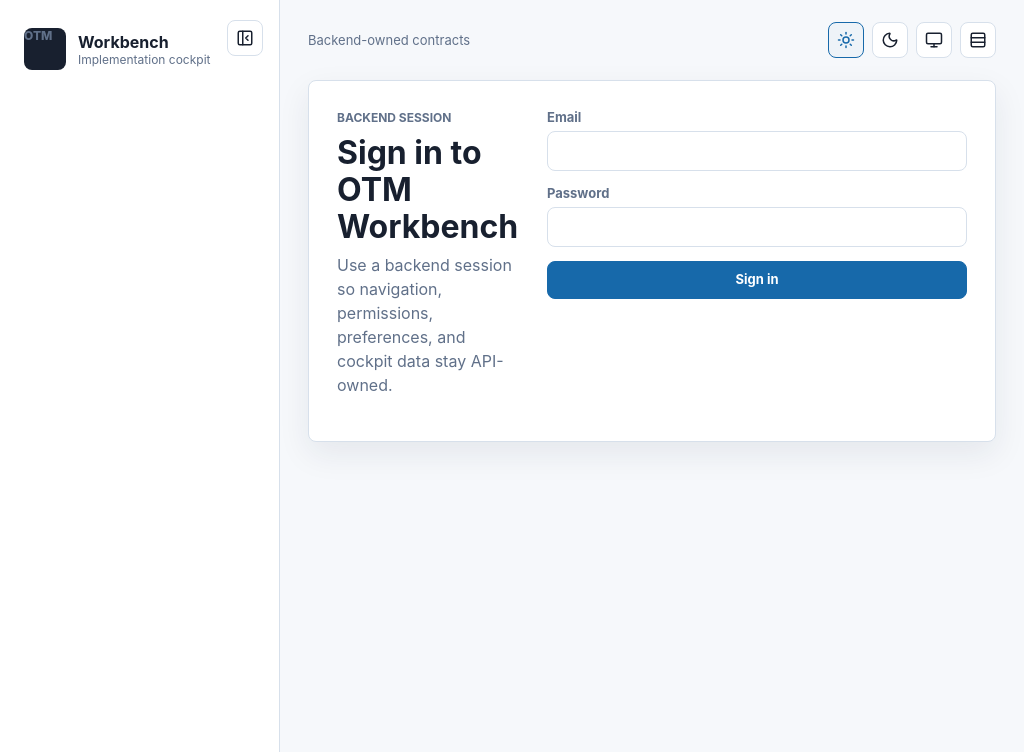
Test: Functional Assets Library journey › edits an asset classification on a dedicated route
Type "admin@example.test" into the field labelled "Email" at (757, 151), box top-left (547, 131), bottom-right (967, 171)
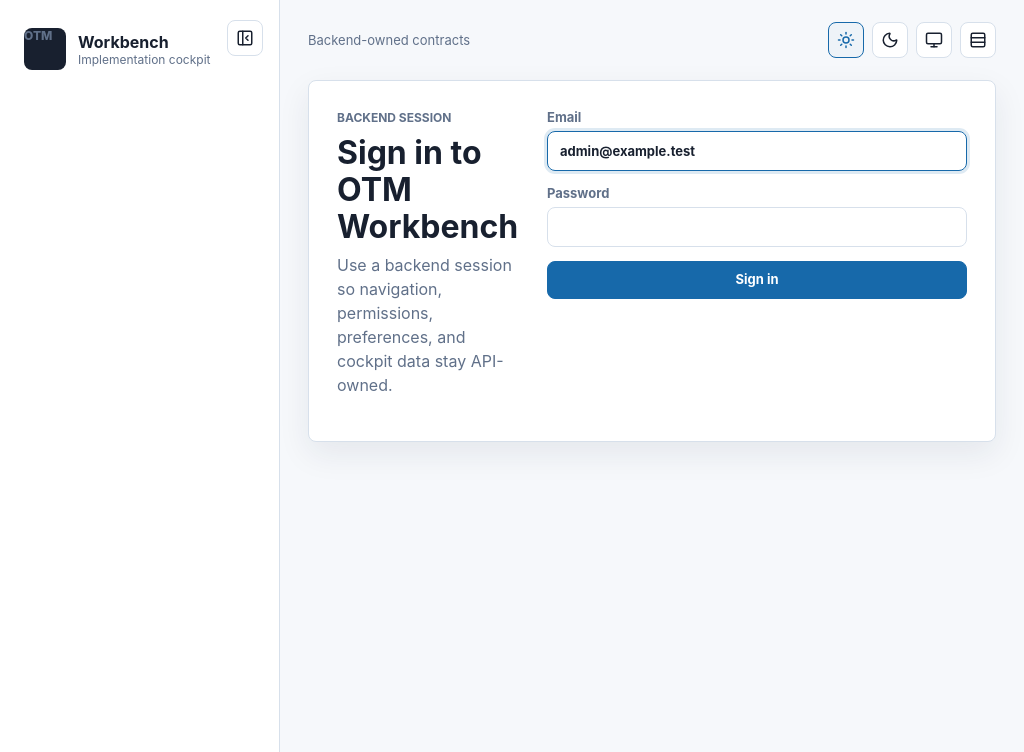
Type "SyntheticPass123!" into the password field labelled "Password" at (757, 227), box top-left (547, 207), bottom-right (967, 247)
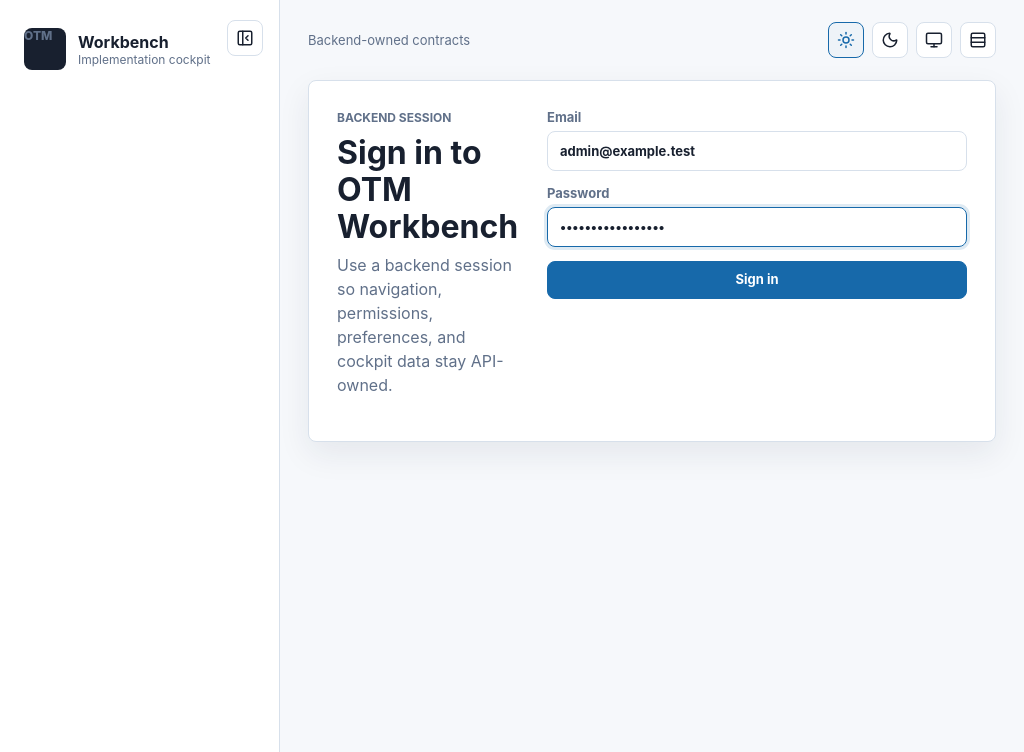
Click the button "Sign in" at (757, 280), box top-left (547, 261), bottom-right (967, 299)
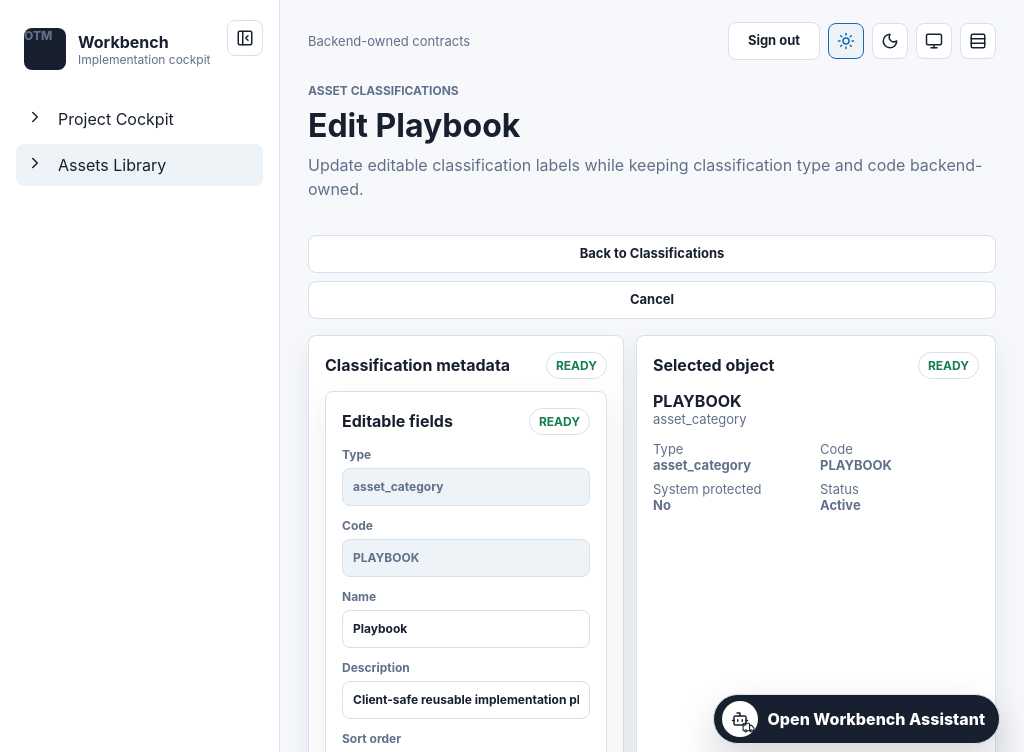
Now the heading "Edit Playbook" is shown, box top-left (308, 106), bottom-right (520, 145)
Replace the text in the field named "Asset classification name" with "Playbook Updated" at (466, 629), box top-left (342, 610), bottom-right (590, 648)
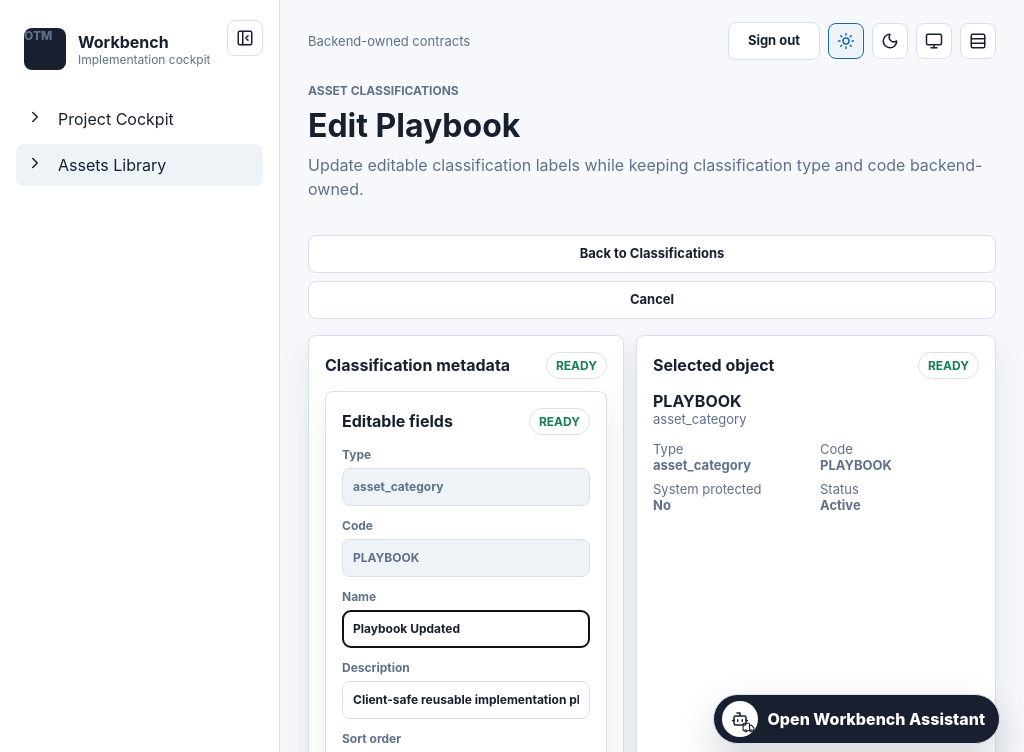
Replace the text in the field named "Asset classification description" with "Updated route-level classification." at (466, 700), box top-left (342, 681), bottom-right (590, 719)
(page scrolled)
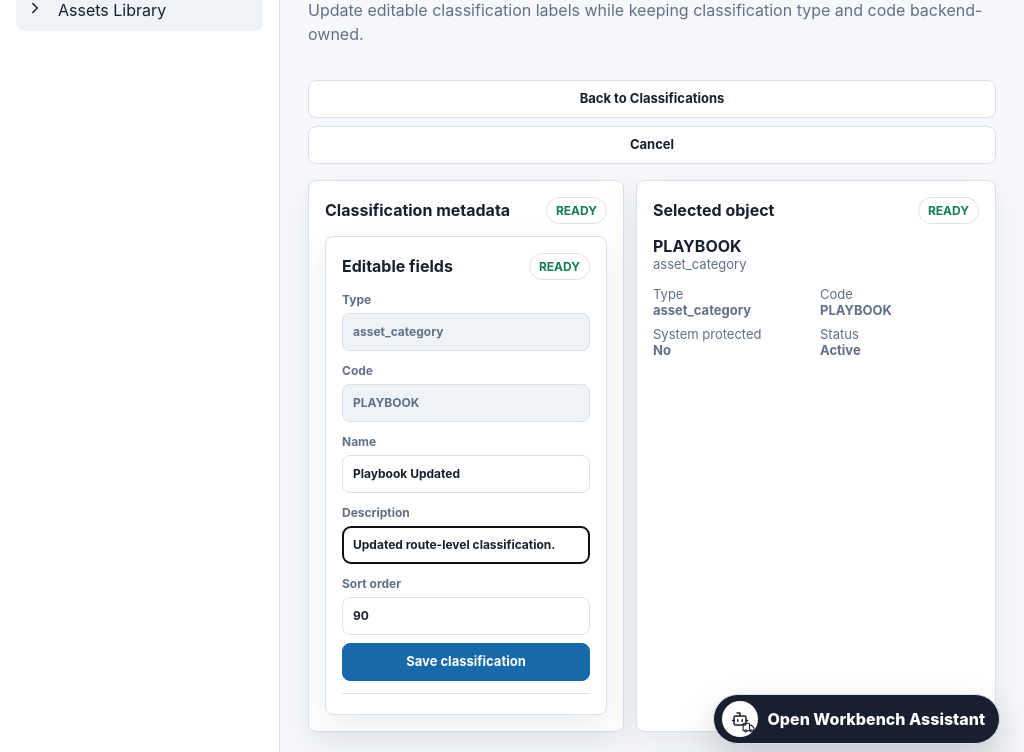
Click the button "Save classification" at (466, 662), box top-left (342, 643), bottom-right (590, 681)
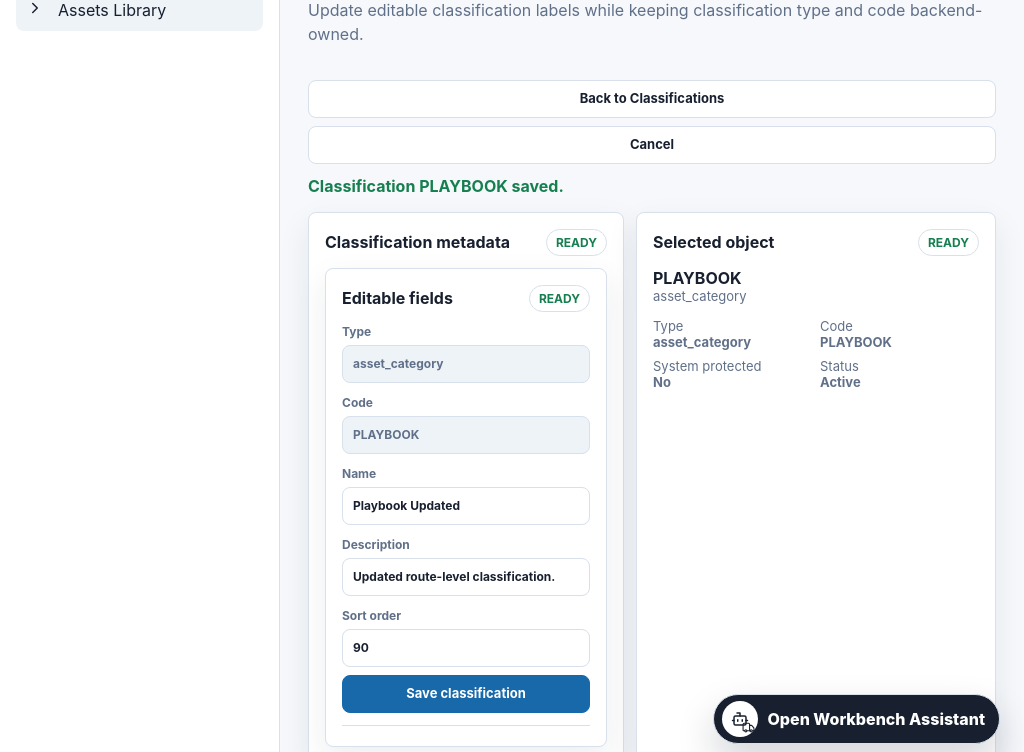
Now the text "Classification PLAYBOOK saved." is shown, box top-left (308, 176), bottom-right (564, 196)
